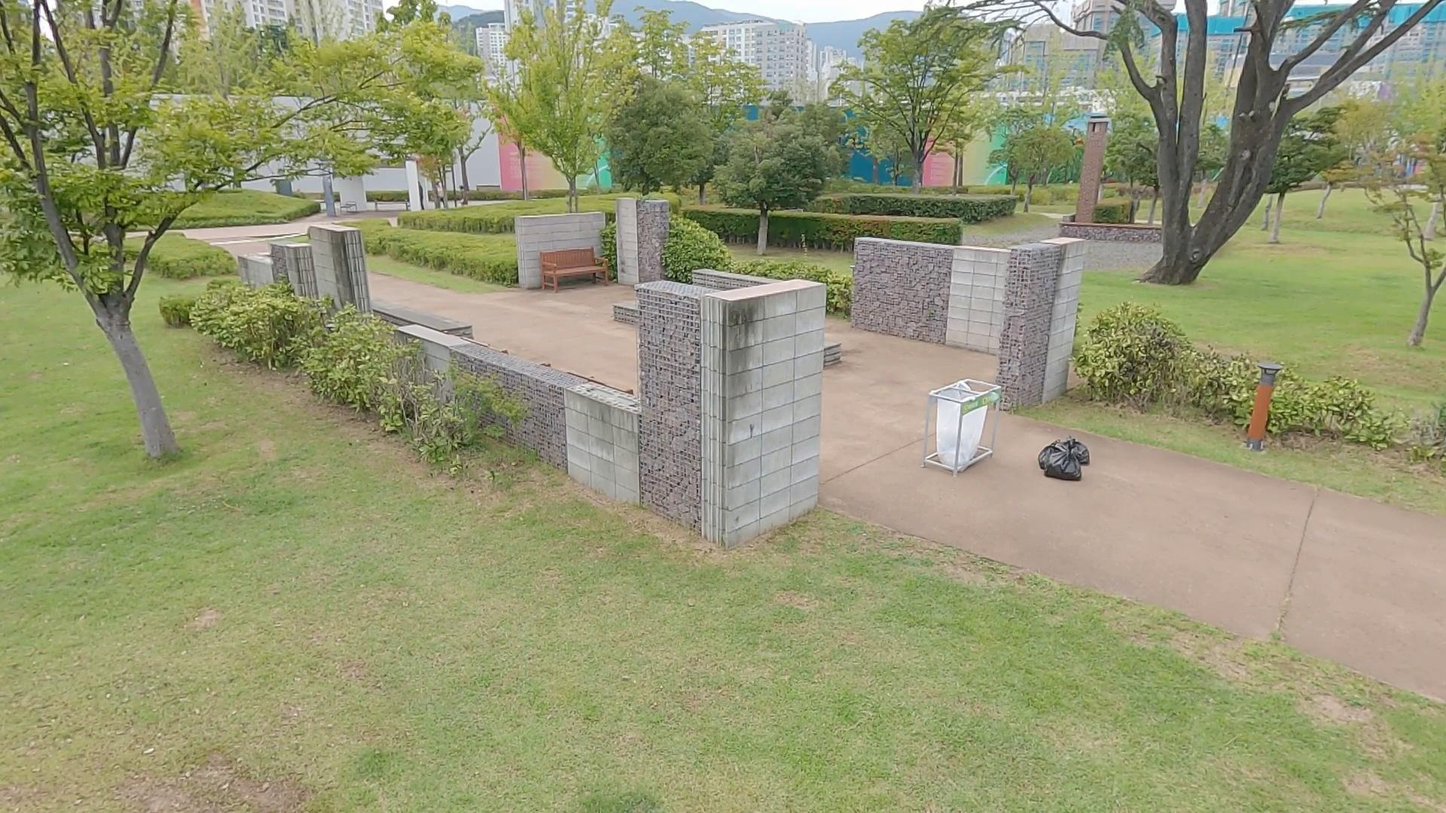trash: (1047, 446, 1083, 481), (1059, 435, 1091, 464), (1037, 439, 1066, 469)
